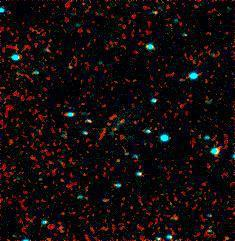star: (101, 116, 131, 146)
